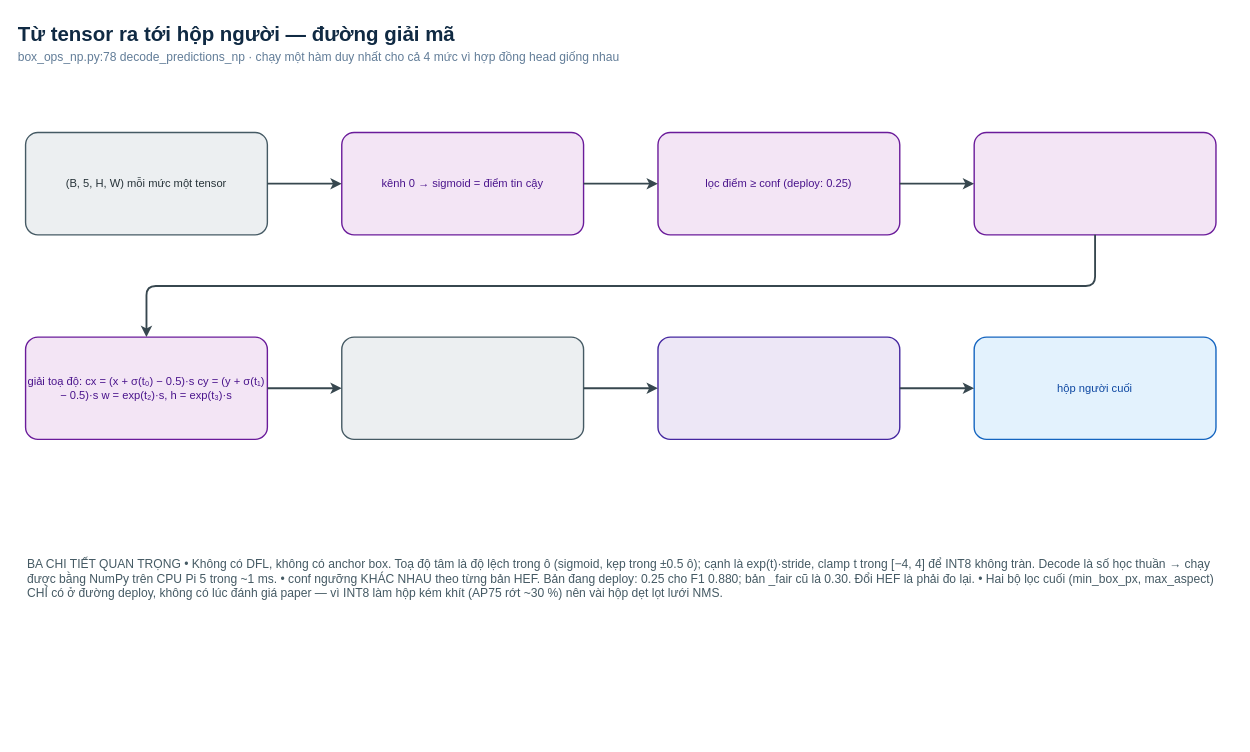
Some shapes in this 1250 by 752 pixel diagram are drawn without their labels. Each missing label, with the box of its shape:
giữ top-500 mỗi mức trước NMS: (973, 131, 1216, 235)
gộp 4 mức + NMS IoU 0.45: (341, 336, 584, 440)
lọc rác deploy: diện tích ≥ 200 px² tỉ lệ cạnh ≤ 6: (657, 336, 900, 440)
